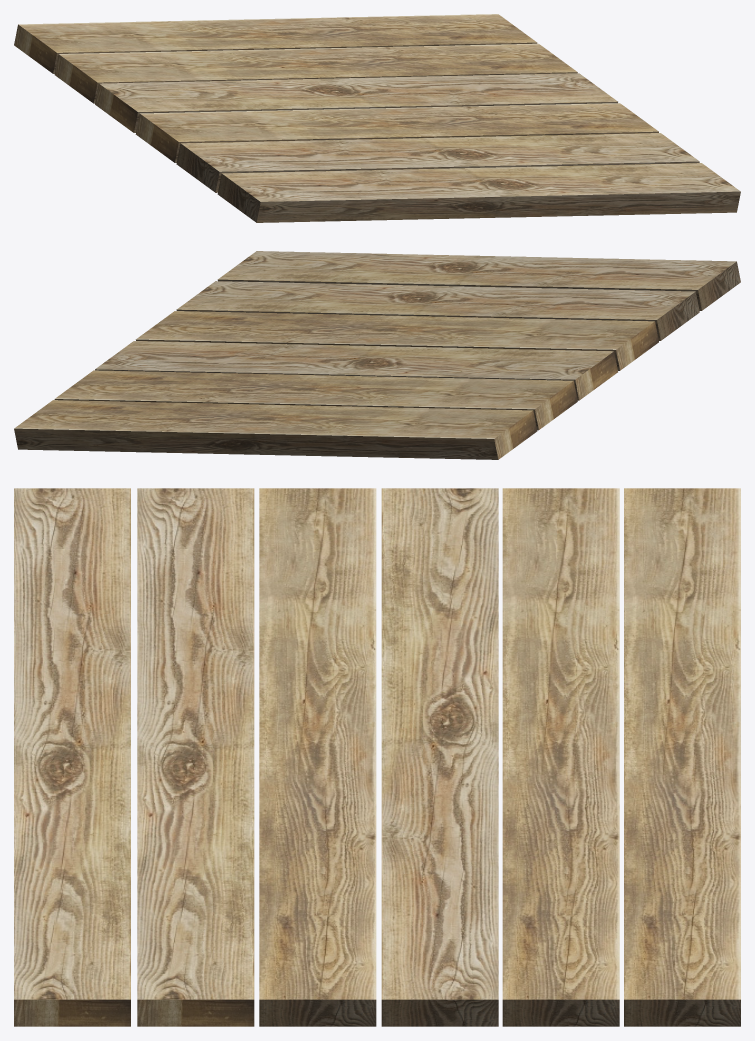
The model's file is woodRamp.fbx.
3 renders of one model, top to bottom at view 1: azimuth 30°, elevation 25°; view 2: azimuth 150°, elevation 25°; view 3: azimuth 270°, elevation 25°, orthographic. The views are drawn at different scales.
Visible parts, largest first — view 1: polySurface371; view 2: polySurface371; view 3: polySurface371.
Boxes of the visible parts, x1,y1,x2,y2 form: polySurface371: (14, 14, 740, 222); polySurface371: (14, 251, 740, 459); polySurface371: (14, 488, 740, 1026).
Size of the model in its own units: 4.46 by 1.12 by 3.87.
Materials: 1 (1 with a texture image).
